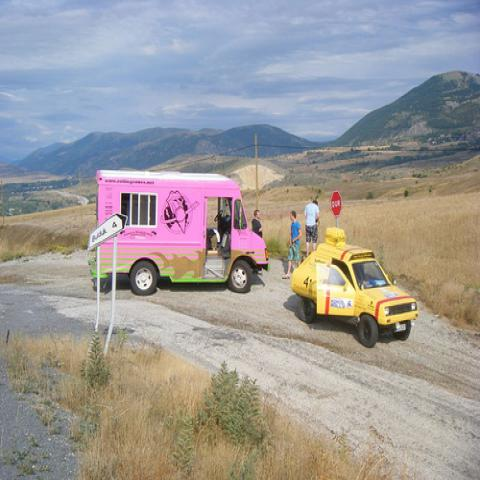car: (292, 242, 421, 348)
truck: (93, 170, 271, 296), (290, 228, 419, 347)
